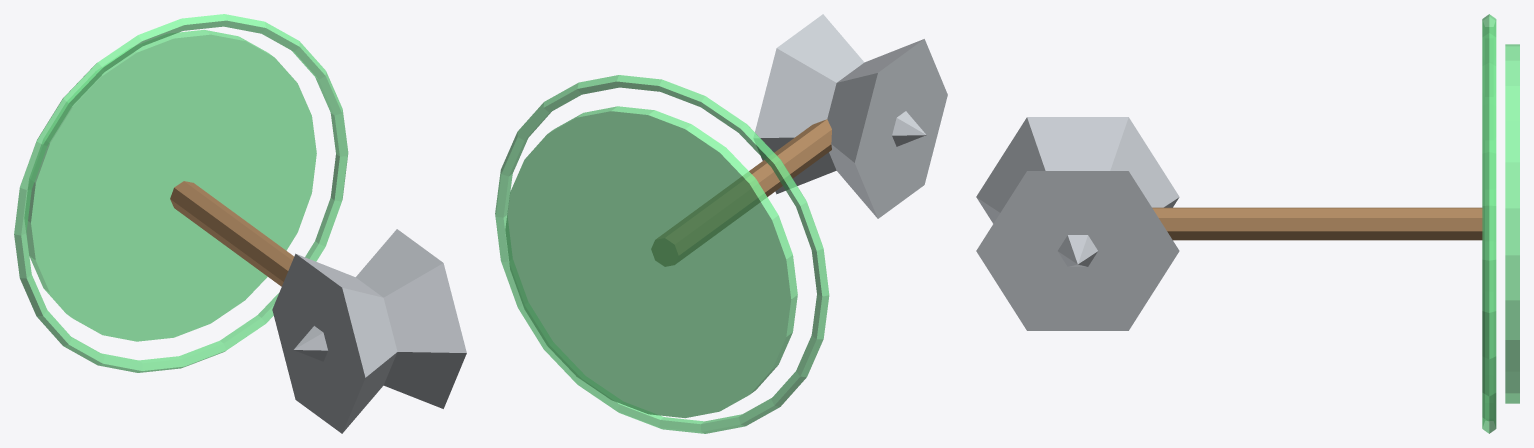
The model's file is weapon_pickup_battle_axe_uncommon.glb.
The picture shows the model from 3 angles, left to right: view 1: azimuth 30°, elevation 25°; view 2: azimuth 150°, elevation 25°; view 3: azimuth 270°, elevation 25°; orthographic projection. The views are drawn at different scales.
Visible parts, largest first — view 1: rarity_base_disc, blade_left, rarity_orbit_ring, blade_right, haft; view 2: rarity_base_disc, blade_left, rarity_orbit_ring, blade_right, haft; view 3: blade_right, blade_left, haft, rarity_orbit_ring, rarity_base_disc.
Part boxes in pixels (x1,y1,x2,y2): rarity_base_disc: [25, 29, 316, 341]; blade_left: [272, 253, 397, 433]; rarity_orbit_ring: [14, 14, 348, 372]; blade_right: [294, 229, 466, 408]; haft: [170, 181, 294, 286]; rarity_base_disc: [505, 106, 797, 418]; blade_left: [827, 39, 947, 218]; rarity_orbit_ring: [495, 75, 829, 433]; blade_right: [754, 14, 926, 194]; haft: [651, 119, 831, 266]; blade_right: [976, 171, 1179, 330]; blade_left: [976, 117, 1179, 266]; haft: [1152, 207, 1482, 240]; rarity_orbit_ring: [1482, 14, 1496, 433]; rarity_base_disc: [1505, 44, 1519, 403].
Size of the model in its own units: 1.45 by 1.45 by 1.87.
